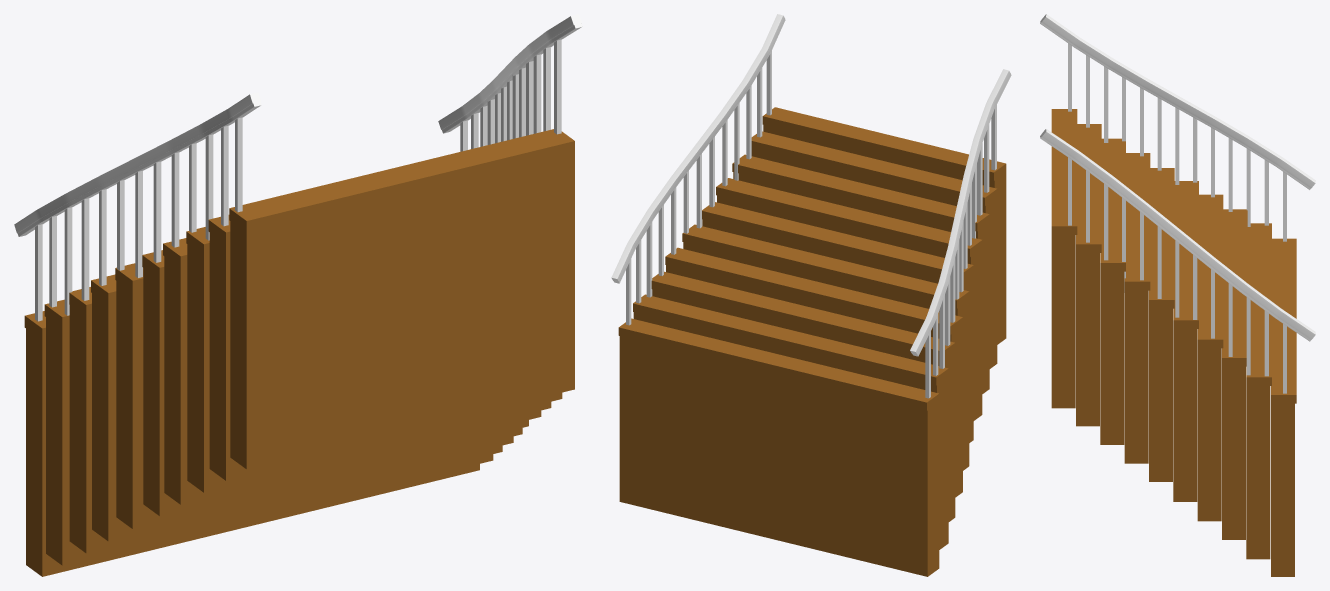
File: Stairs.glb
The picture shows the model from 3 angles, left to right: view 1: azimuth 30°, elevation 25°; view 2: azimuth 150°, elevation 25°; view 3: azimuth 270°, elevation 25°; orthographic projection. The views are drawn at different scales.
Visible parts, largest first — view 1: NurbsPath.002, NurbsPath.001; view 2: NurbsPath.002, NurbsPath.001; view 3: NurbsPath.002, NurbsPath.001.
Part boxes in pixels (x1,y1,x2,y2): NurbsPath.002: (24, 129, 574, 576); NurbsPath.001: (14, 14, 582, 321); NurbsPath.002: (618, 107, 1006, 576); NurbsPath.001: (611, 14, 1011, 398); NurbsPath.002: (1051, 109, 1296, 576); NurbsPath.001: (1040, 14, 1315, 393).
Size of the model in its own units: 15.36 by 19.51 by 11.44.
